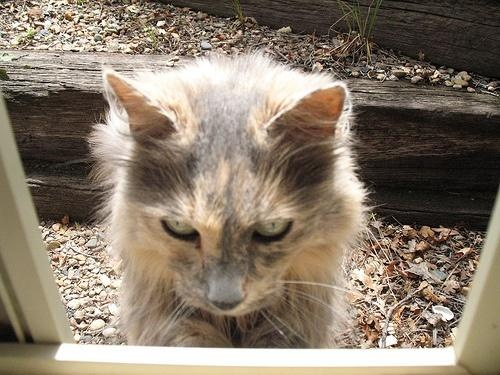cat: (85, 50, 379, 348)
